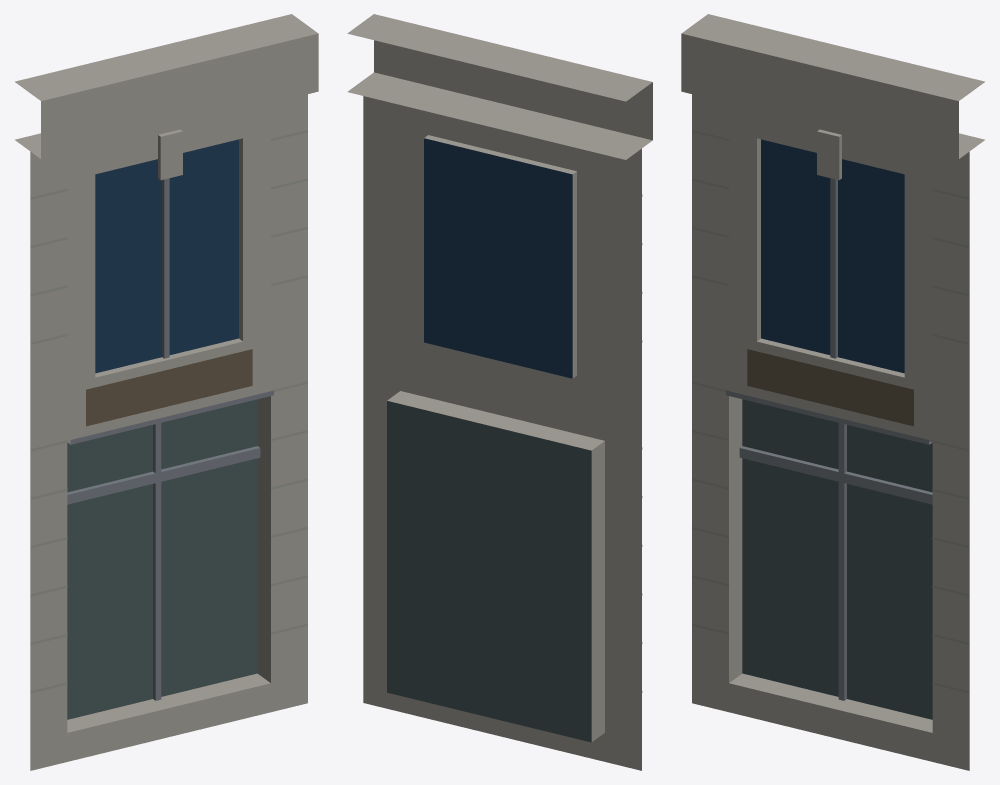
The model's file is base-w1_close.fbx.
3 renders of one model, left to right at view 1: azimuth 30°, elevation 25°; view 2: azimuth 150°, elevation 25°; view 3: azimuth 330°, elevation 25°, orthographic.
Visible parts, largest first — view 1: a2012/600/base-w1_close; view 2: a2012/600/base-w1_close; view 3: a2012/600/base-w1_close.
Boxes of the visible parts, x1,y1,x2,y2 form: a2012/600/base-w1_close: [14, 14, 318, 770]; a2012/600/base-w1_close: [347, 14, 652, 770]; a2012/600/base-w1_close: [681, 14, 985, 770].
Size of the model in its own units: 3 by 7 by 0.5.
